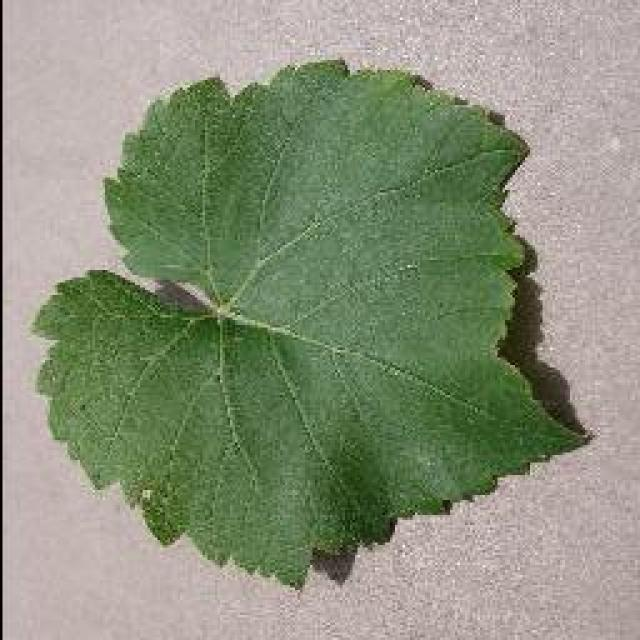Grape___healthy: (38, 62, 578, 582)
